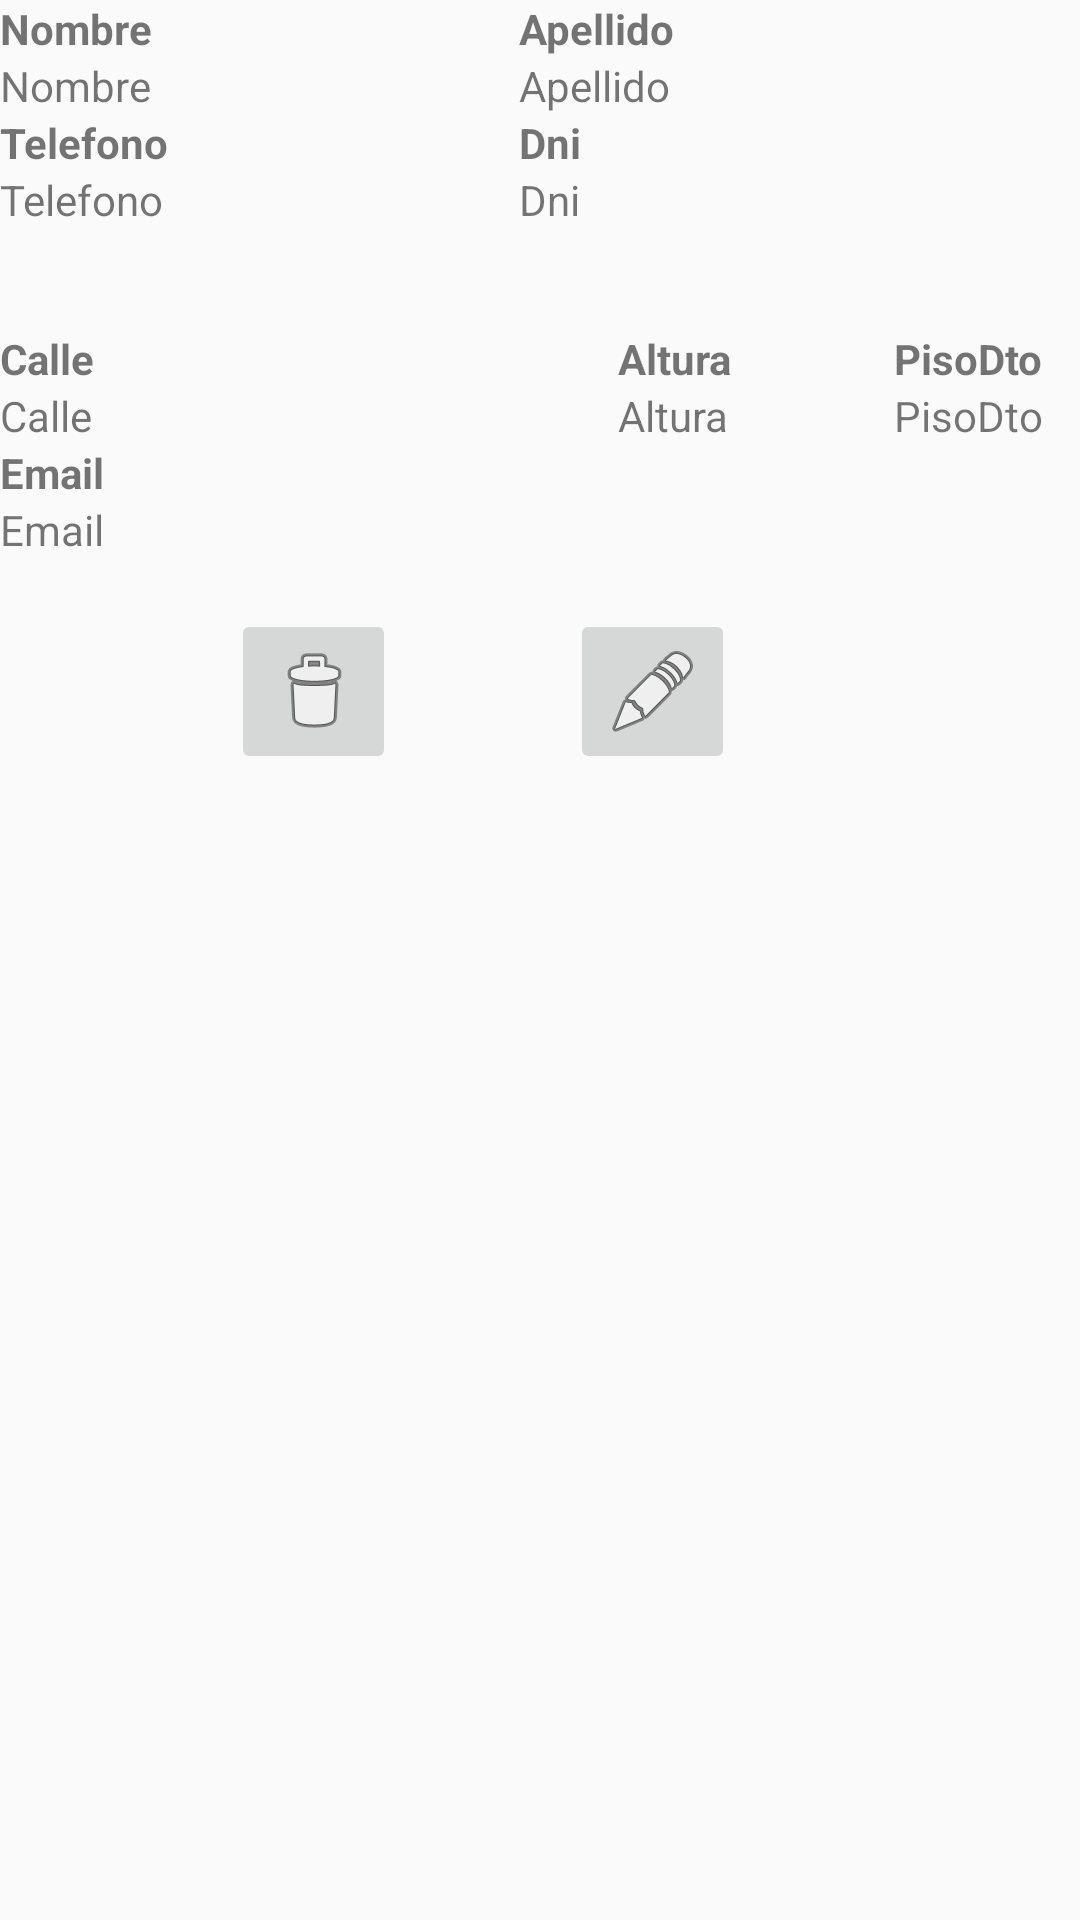

Screen size 1080px x 1920px. Icon name, then its box in pixels as Rect(x1, y1, x2, y2):
delete: Rect(243, 627, 384, 756)
edit: Rect(582, 627, 723, 756)
